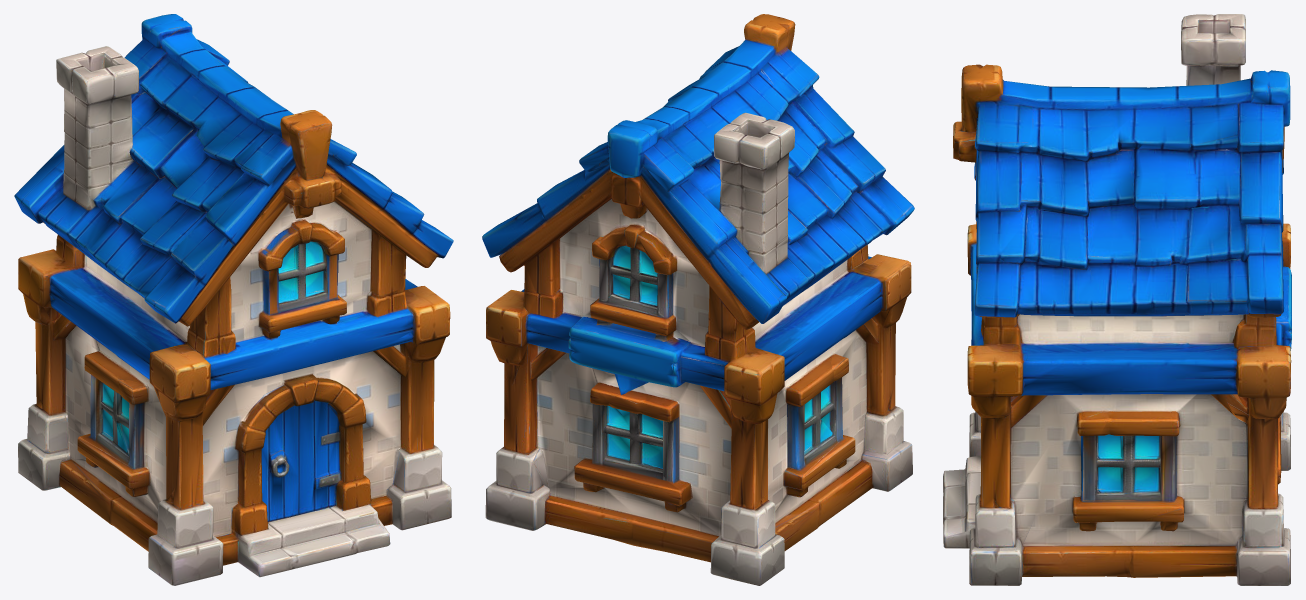
Rendered from blue_cottage.glb.
3 views of the same model, side by side, from view 1: azimuth 30°, elevation 25°; view 2: azimuth 150°, elevation 25°; view 3: azimuth 270°, elevation 25° (orthographic). The views are drawn at different scales.
Visible parts, largest first — view 1: Mesh_0; view 2: Mesh_0; view 3: Mesh_0.
Boxes of the visible parts, x1,y1,x2,y2 form: Mesh_0: (14,14,453,585); Mesh_0: (482,14,914,585); Mesh_0: (943,14,1291,585).
Size of the model in its own units: 1.37 by 1.91 by 1.36.
Materials: 1 (1 with a texture image).
